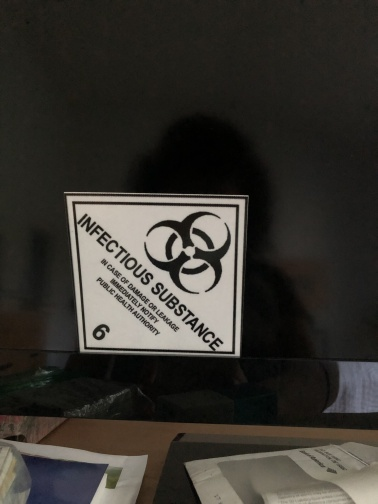InfectiousSubstance: (62, 190, 251, 359)
